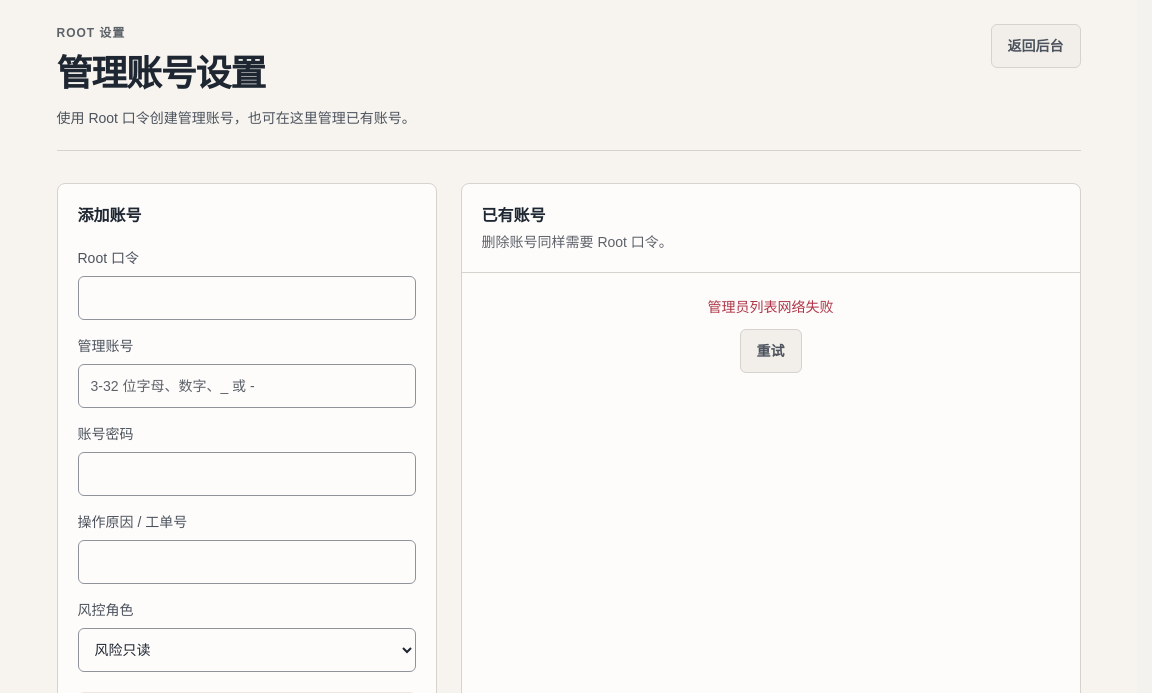
Test: AdminSetupPage › distinguishes a loading failure from an empty list and retries explicitly
The width and height of the screenshot is (1152, 693).
expect the message reads "管理员列表网络失败": met, box x1=708 y1=299 x2=834 y2=315
Click the button "重试" at (770, 351), box x1=740 y1=329 x2=802 y2=373
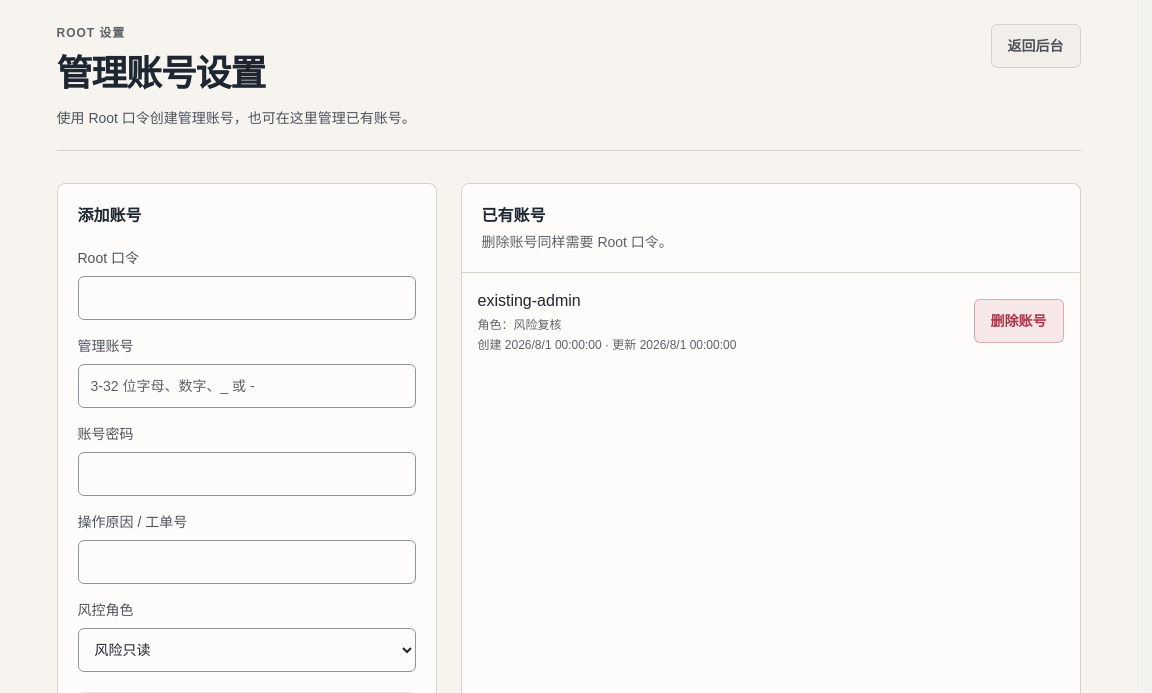
expect the text "existing-admin" is shown: met, box x1=478 y1=292 x2=581 y2=309
